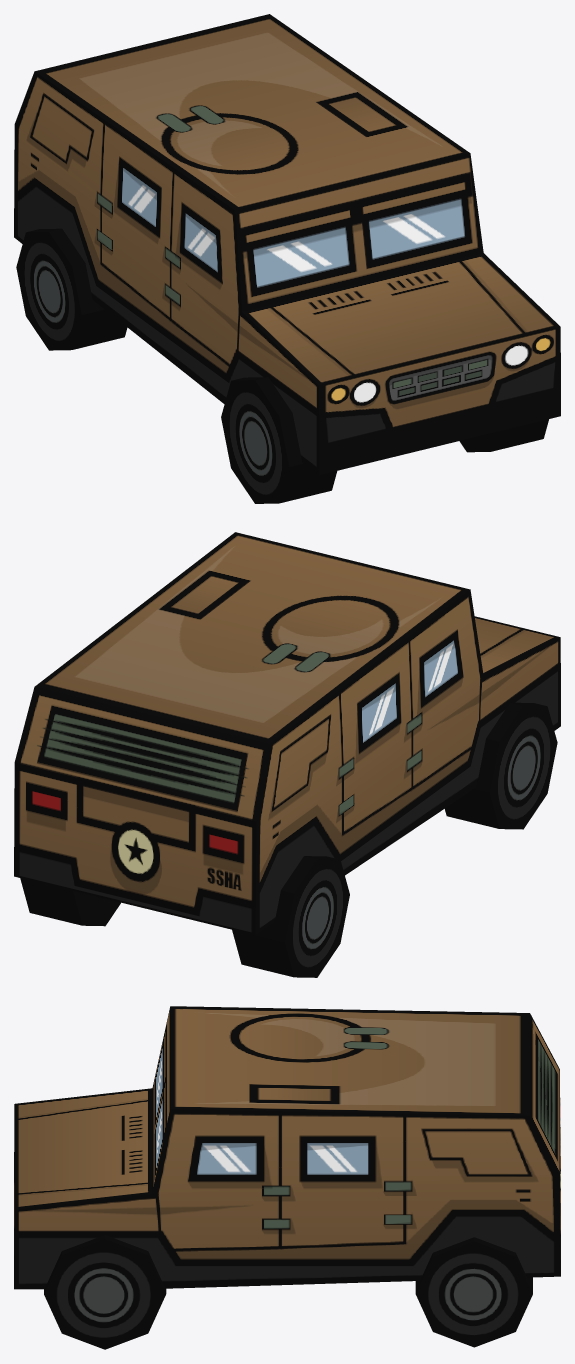
File: car16_8.gltf
The picture shows the model from 3 angles, top to bottom: view 1: azimuth 30°, elevation 25°; view 2: azimuth 150°, elevation 25°; view 3: azimuth 270°, elevation 25°; orthographic projection. The views are drawn at different scales.
Visible parts, largest first — view 1: Cylinder.002; view 2: Cylinder.002; view 3: Cylinder.002.
Part boxes in pixels (bbox=[...]): Cylinder.002: bbox=[14, 14, 560, 503]; Cylinder.002: bbox=[14, 532, 560, 977]; Cylinder.002: bbox=[14, 1006, 560, 1349].
Bounding box in the file's own units: 2.98 × 2.83 × 5.95.
1 material, 1 textured.
